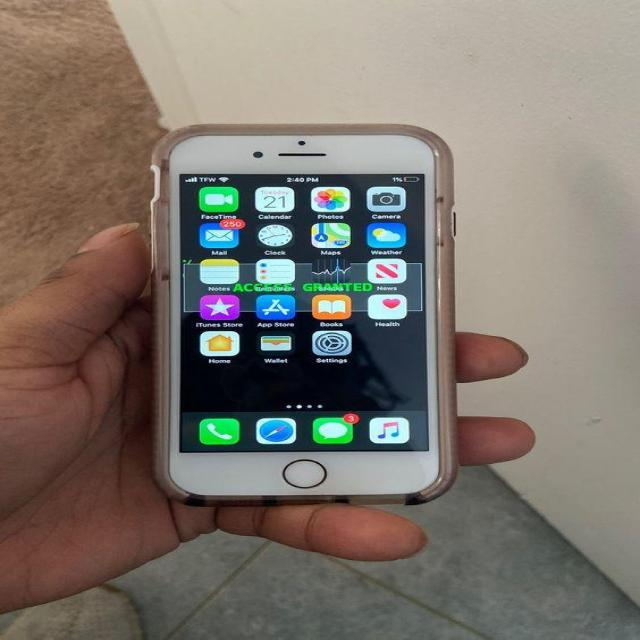Smartphone: (154, 126, 453, 505)
